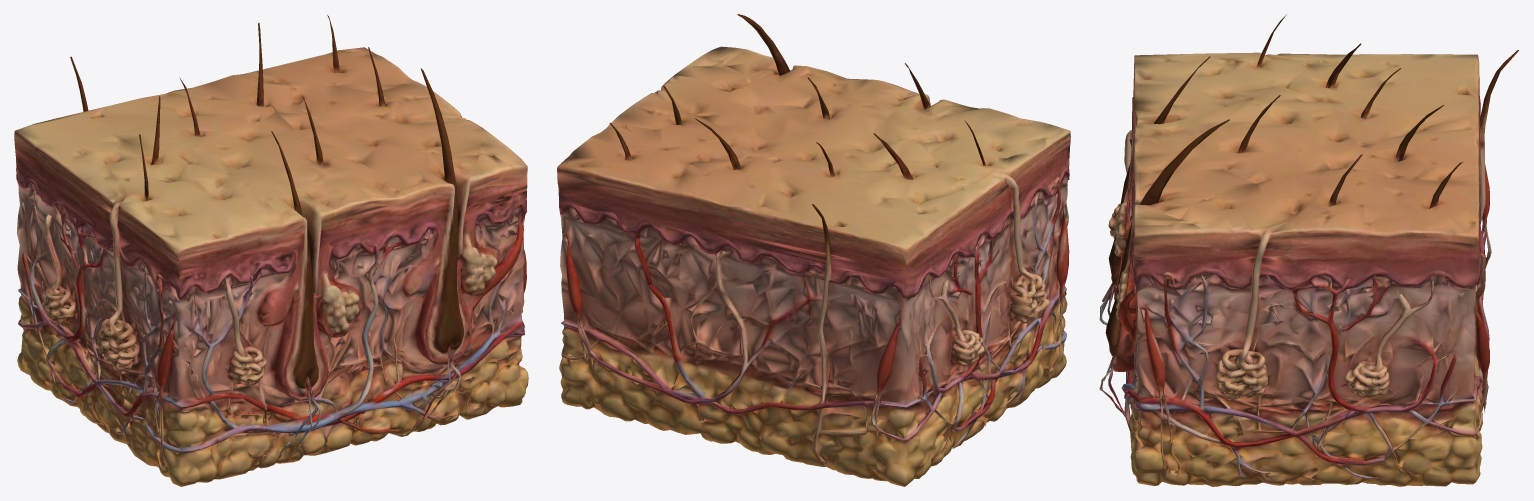
The model's file is skin.glb.
3 renders of one model, left to right at view 1: azimuth 30°, elevation 25°; view 2: azimuth 150°, elevation 25°; view 3: azimuth 270°, elevation 25°, orthographic. The views are drawn at different scales.
Parts seen in each view (by area): view 1: tripo_node_e5876caf-7f3d-4121-9468-4d7c567ae73f; view 2: tripo_node_e5876caf-7f3d-4121-9468-4d7c567ae73f; view 3: tripo_node_e5876caf-7f3d-4121-9468-4d7c567ae73f.
Part boxes in pixels (x1=…): tripo_node_e5876caf-7f3d-4121-9468-4d7c567ae73f: x1=14, y1=15, x2=528, y2=486; tripo_node_e5876caf-7f3d-4121-9468-4d7c567ae73f: x1=557, y1=14, x2=1070, y2=486; tripo_node_e5876caf-7f3d-4121-9468-4d7c567ae73f: x1=1099, y1=14, x2=1518, y2=486.
Bounding box in the file's own units: 0.9791 × 0.7725 × 0.8524.
1 material, 1 textured.
